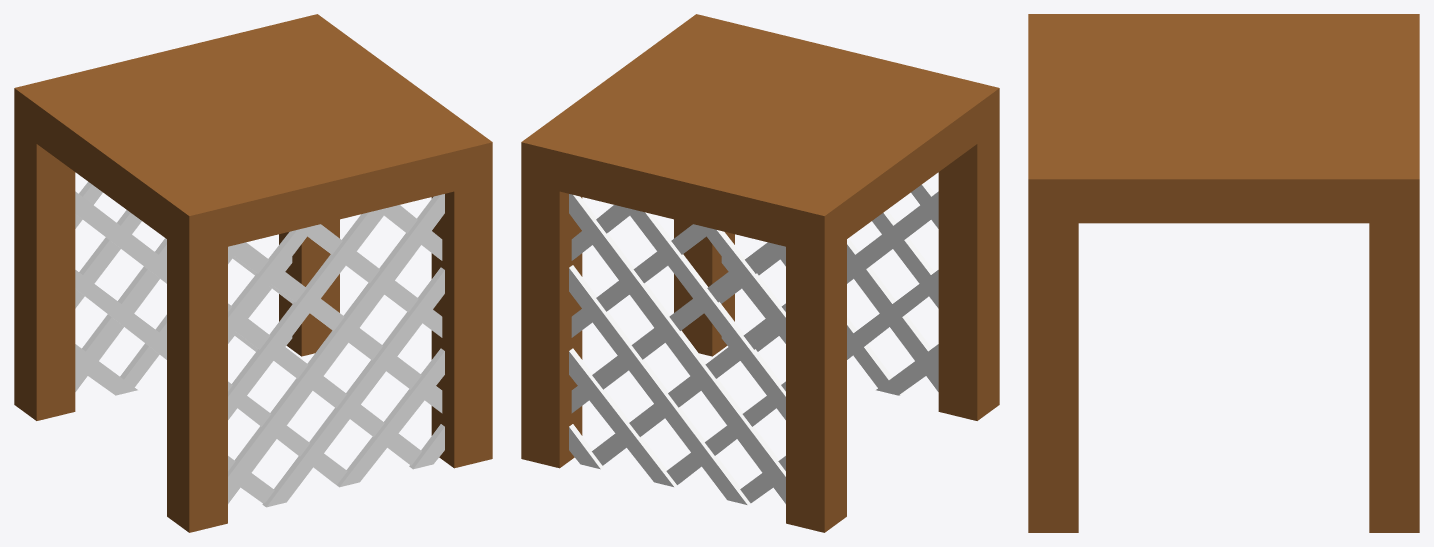
Rendered from pergola.glb.
3 views of the same model, side by side, from view 1: azimuth 30°, elevation 25°; view 2: azimuth 150°, elevation 25°; view 3: azimuth 270°, elevation 25° (orthographic). The views are drawn at different scales.
Parts seen in each view (by area): view 1: mesh; view 2: mesh; view 3: mesh.
Boxes of the visible parts, bbox=[...] form: mesh: bbox=[14, 14, 492, 532]; mesh: bbox=[521, 14, 999, 532]; mesh: bbox=[1028, 14, 1419, 532].
Size of the model in its own units: 4 by 4.02 by 4.
